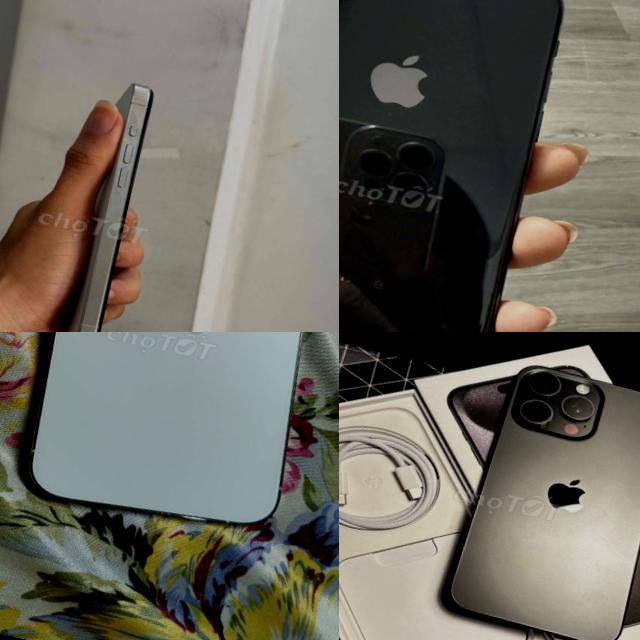gen_12_13: (6, 332, 339, 549)
gen_15: (421, 334, 640, 640), (21, 65, 178, 332)
gen_x_xs: (339, 0, 584, 332)
scratch: (465, 219, 488, 250), (376, 101, 404, 120), (120, 133, 132, 147)
